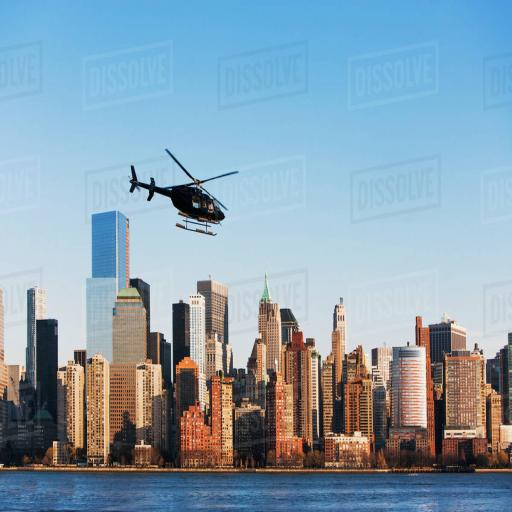helicopter: (130, 148, 239, 238)
